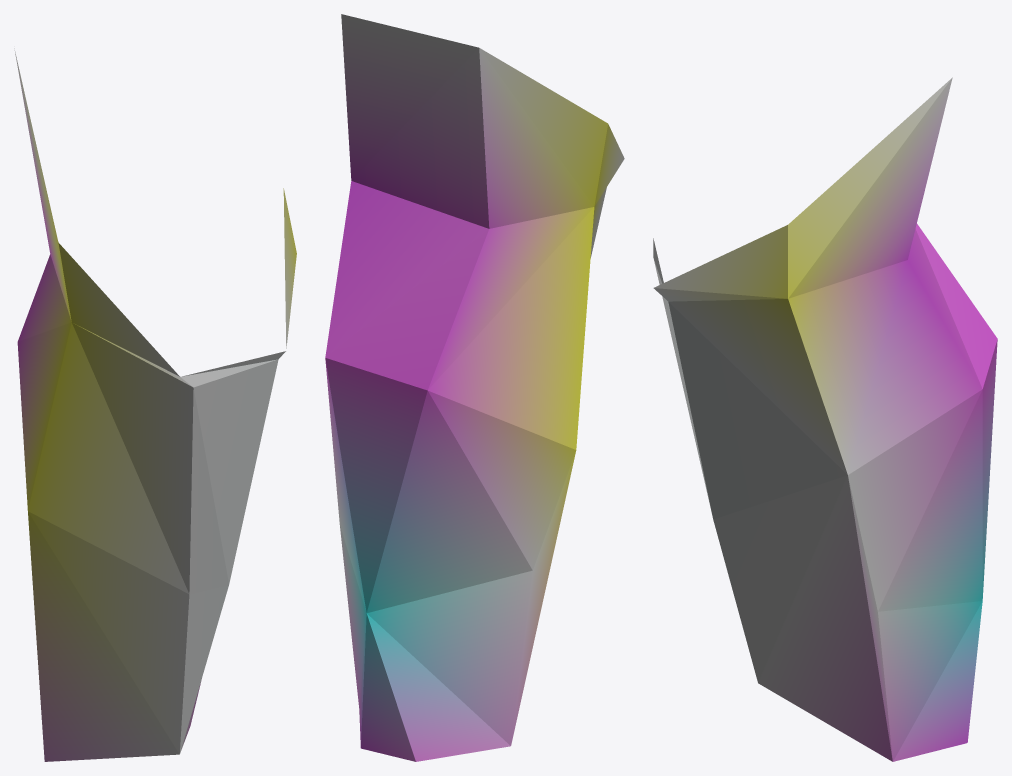
3 renders of one model, left to right at view 1: azimuth 30°, elevation 25°; view 2: azimuth 150°, elevation 25°; view 3: azimuth 270°, elevation 25°, orthographic. The views are drawn at different scales.
Parts seen in each view (by area): view 1: model_1164; view 2: model_1164; view 3: model_1164.
Part boxes in pixels (x1,y1,x2,y2): model_1164: (14,48,296,761); model_1164: (325,14,624,761); model_1164: (653,77,997,761).
Size of the model in its own units: 18 by 50 by 23.
